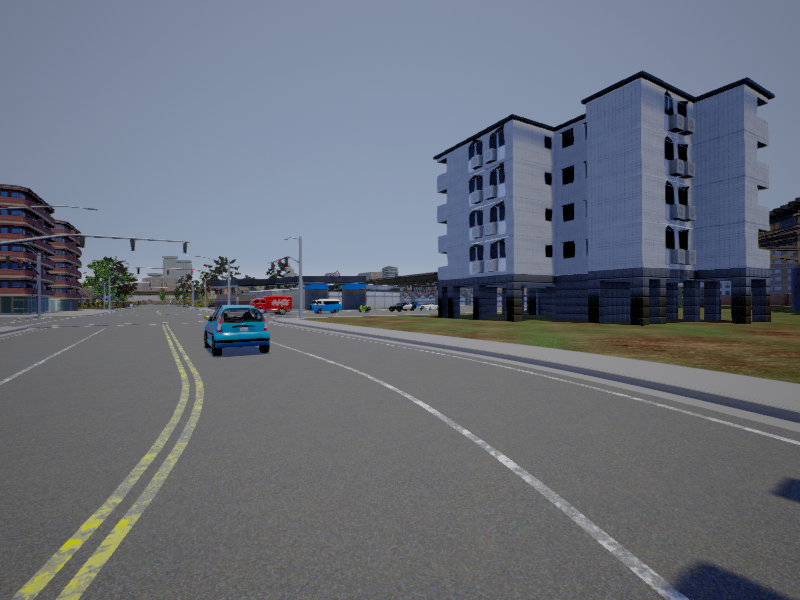Benign: (202, 304, 271, 354), (252, 296, 293, 317), (309, 297, 343, 315), (390, 302, 417, 313)
